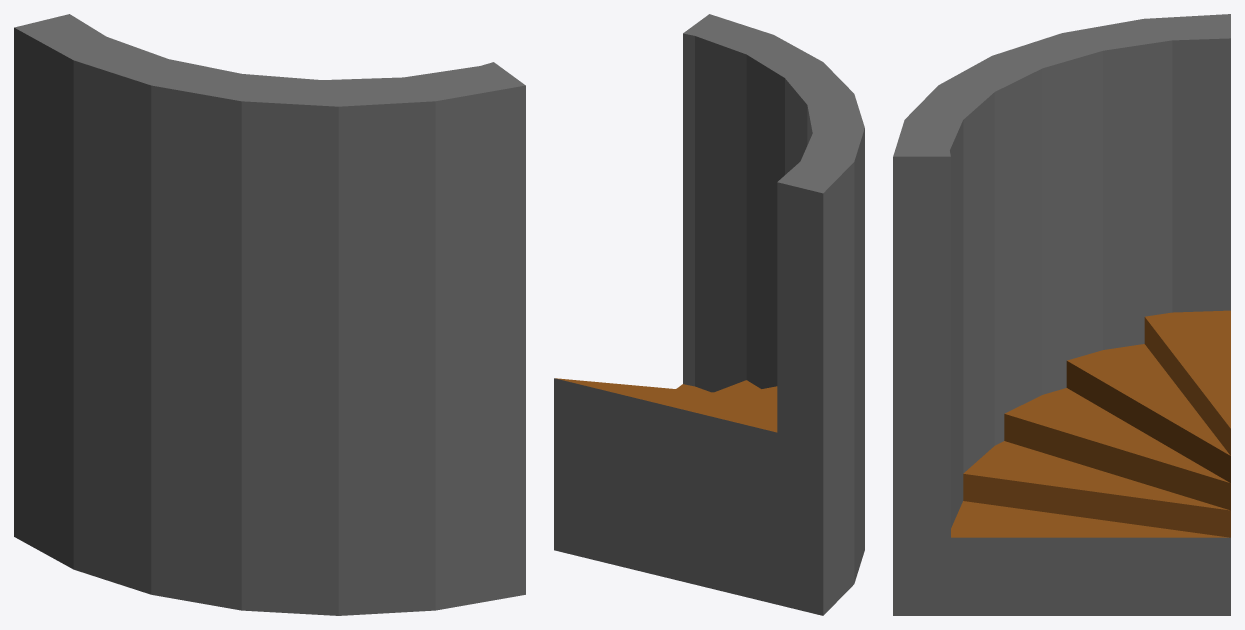
The model's file is Dungeon_Tiles_Modular_Stairs_Spiral_Small_Timber_02.fbx.
The picture shows the model from 3 angles, left to right: view 1: azimuth 30°, elevation 25°; view 2: azimuth 150°, elevation 25°; view 3: azimuth 270°, elevation 25°; orthographic projection. The views are drawn at different scales.
Visible parts, largest first — view 1: Dungeon_Tiles_Modular_Stairs_Spiral_Small_Timber_02; view 2: Dungeon_Tiles_Modular_Stairs_Spiral_Small_Timber_02; view 3: Dungeon_Tiles_Modular_Stairs_Spiral_Small_Timber_02.
Part boxes in pixels (box(x1,y1,x2,y2)): Dungeon_Tiles_Modular_Stairs_Spiral_Small_Timber_02: box(14, 14, 525, 615); Dungeon_Tiles_Modular_Stairs_Spiral_Small_Timber_02: box(554, 14, 864, 615); Dungeon_Tiles_Modular_Stairs_Spiral_Small_Timber_02: box(893, 14, 1230, 615).
Bounding box in the file's own units: 1219 × 1829 × 1219.
